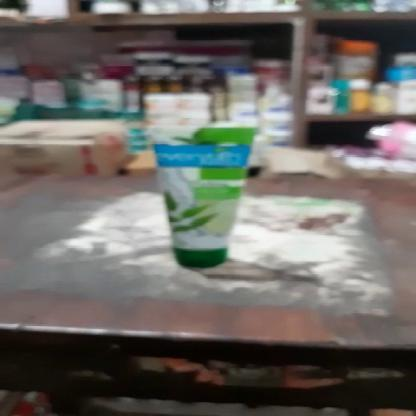EY NATURALS NEEM FACE WASH AY 50G: (146, 122, 262, 272)
